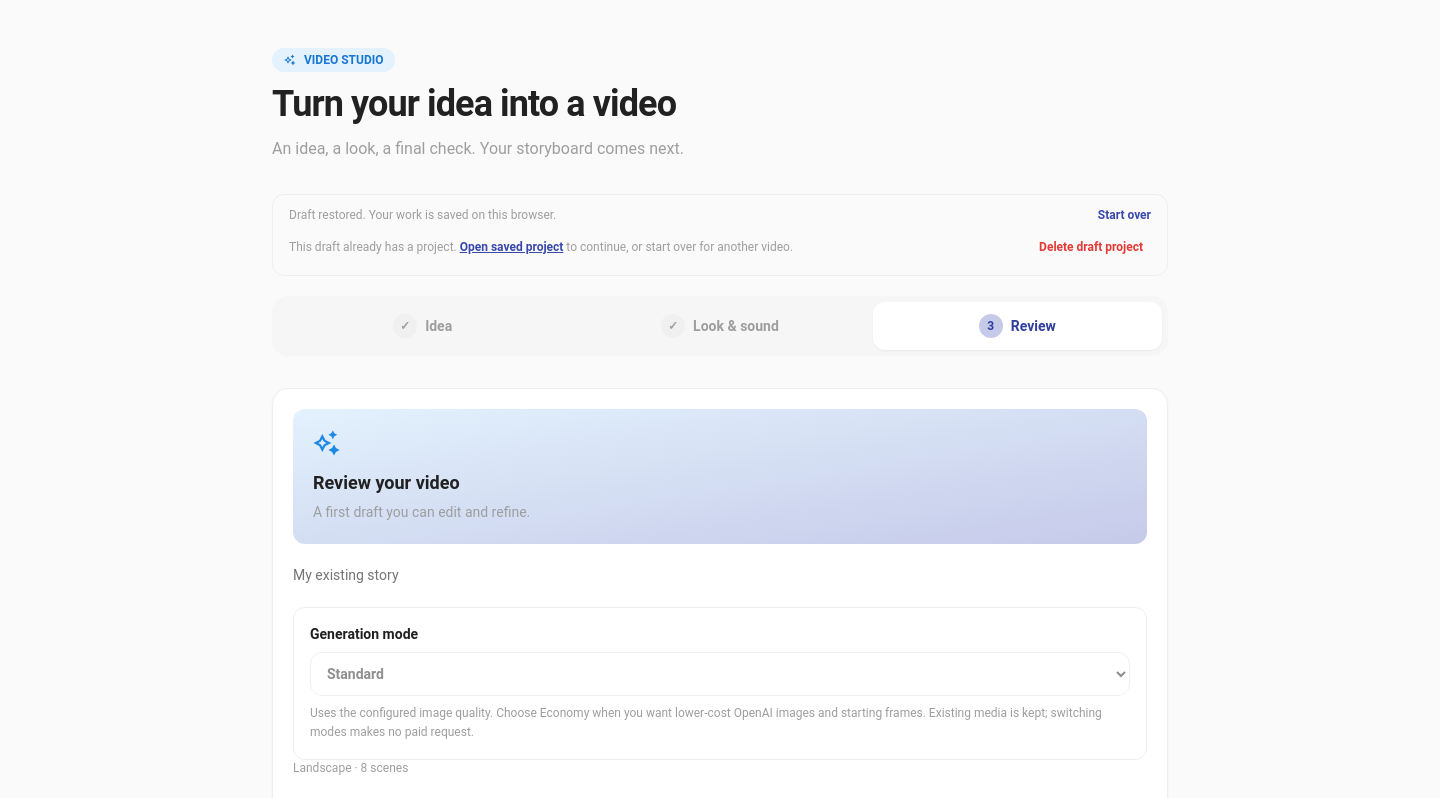
Scenario: deletes a saved draft project without losing the creation settings
Click the button "Delete draft project".
click(1091, 247)  # box [1031,231,1151,263]
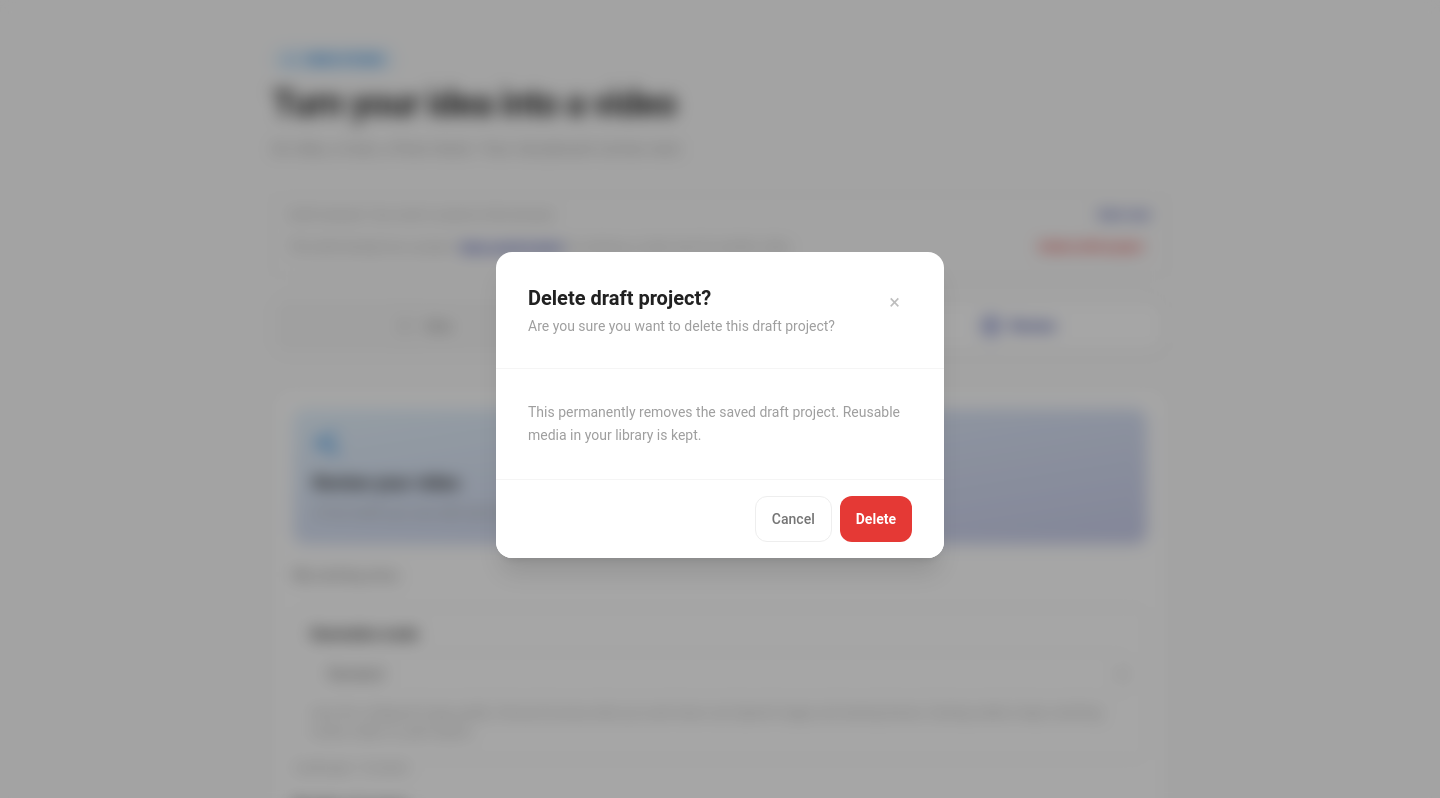
Click the button "Delete".
click(876, 519)  # box [840,496,912,542]
(page scrolled)
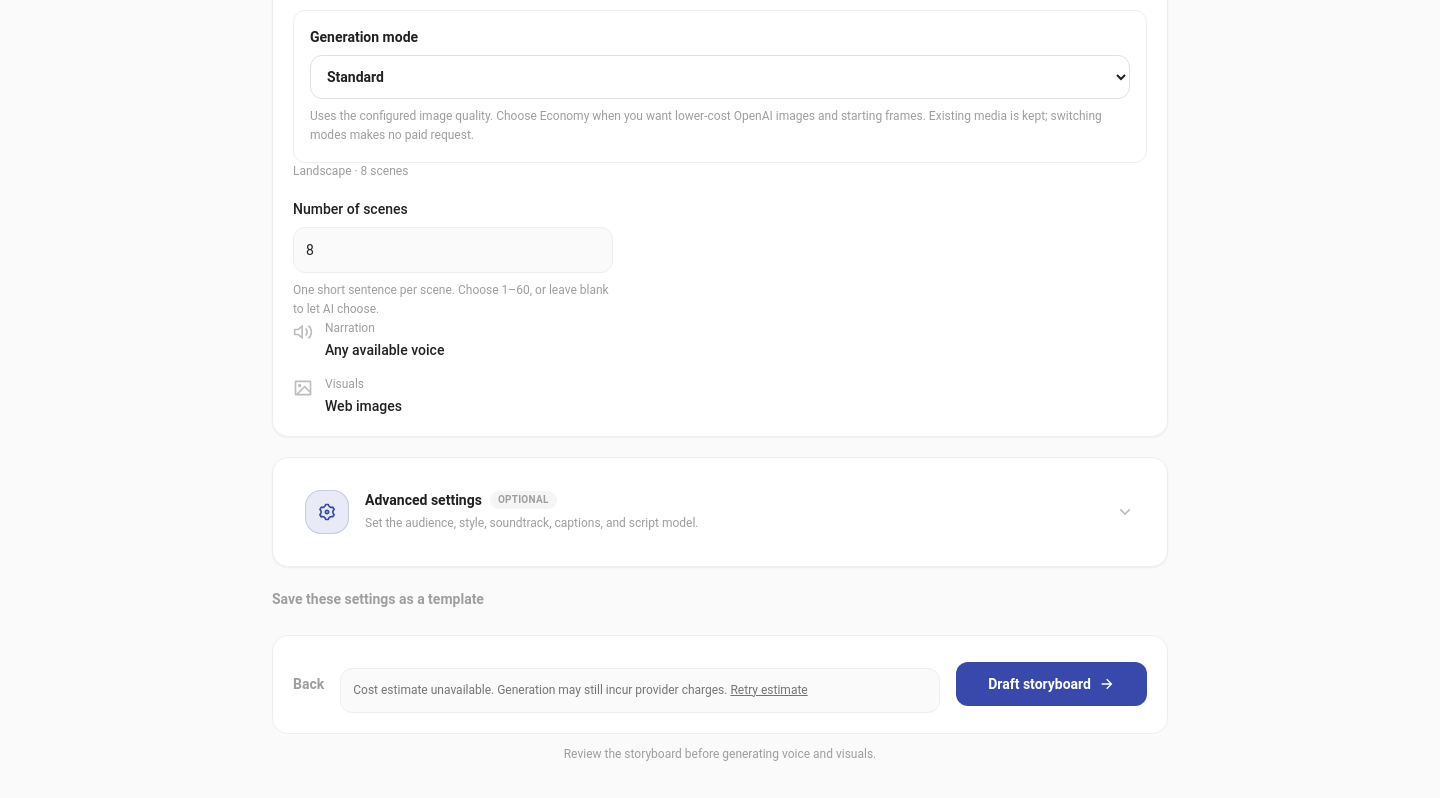
expect the button "Draft storyboard" is shown: met, box [956,662,1147,706]
